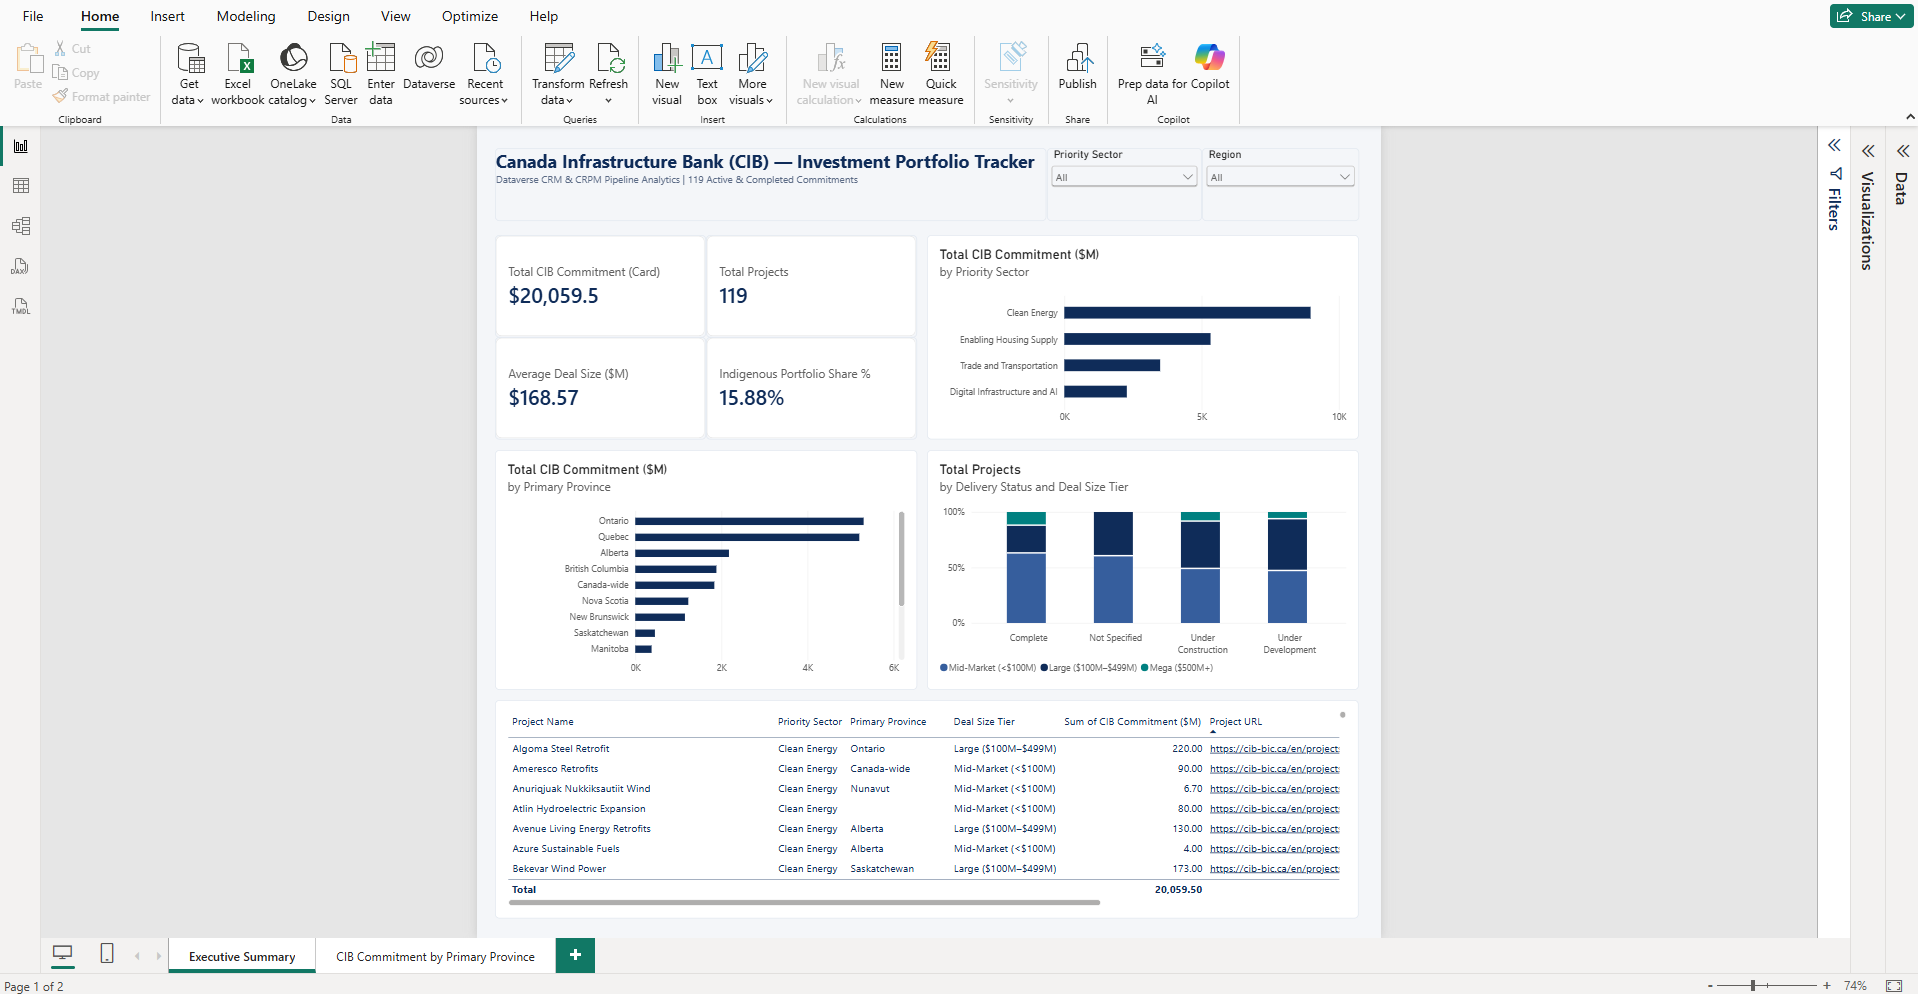

The dashboard page shown, as its layout file describes it:
{"tool":"powerbi","page":{"name":"Executive Summary","canvas":[1225,1100],"ordinal":0},"visuals":[{"type":"textbox","box":[24.8,29.2,747,99.2],"z":0},{"type":"slicer","fields":{"Values":["cib_projects_clean.Priority Sector"]},"box":[771.8,29.2,210.1,99.2],"z":1},{"type":"slicer","fields":{"Values":["cib_projects_clean.Region"]},"box":[981.9,29.2,213,99.2],"z":2},{"type":"cardVisual","fields":{"Data":["_Measures.Total CIB Commitment (Card)"]},"box":[24.8,147.4,286,138.6],"z":3},{"type":"cardVisual","fields":{"Data":["_Measures.Total Projects"]},"box":[310.8,147.4,286,138.6],"z":4},{"type":"cardVisual","fields":{"Data":["_Measures.Average Deal Size ($M)"]},"box":[24.8,286,286,138.6],"z":5},{"type":"cardVisual","fields":{"Data":["_Measures.Indigenous Portfolio Share %"]},"box":[310.8,286,286,138.6],"z":6},{"type":"barChart","fields":{"Category":["cib_projects_clean.Priority Sector"],"Y":["_Measures.Total CIB Commitment ($M)"]},"box":[609.8,147.4,585,277.2],"z":7},{"type":"hundredPercentStackedColumnChart","fields":{"Category":["cib_projects_clean.Delivery Status"],"Series":["cib_projects_clean.Deal Size Tier"],"Y":["_Measures.Total Projects"]},"box":[609.8,439.1,585,325.3],"z":8},{"type":"tableEx","fields":{"Values":["cib_projects_clean.Project Name","cib_projects_clean.Priority Sector","cib_projects_clean.Primary Province","cib_projects_clean.Deal Size Tier","Sum(cib_projects_clean.CIB Commitment ($M))","cib_projects_clean.Project URL"]},"box":[24.8,777.6,1170.1,296.2],"z":11},{"type":"clusteredBarChart","fields":{"Category":["cib_projects_clean.Primary Province"],"Y":["_Measures.Total CIB Commitment ($M)"]},"box":[24.8,439.1,571.9,325.3],"z":12}]}

Visuals, with their boxes on the page's 1225x1100 design canvas (x1, y1, x2, y2). These are canvas units, not pixel positions in the 1918x994 screenshot, which may show the page scaled, cropped or inside an application window:
textbox: [x1=25, y1=29, x2=772, y2=128]
slicer - cib_projects_clean.Priority Sector: [x1=772, y1=29, x2=982, y2=128]
slicer - cib_projects_clean.Region: [x1=982, y1=29, x2=1195, y2=128]
cardVisual - _Measures.Total CIB Commitment (Card): [x1=25, y1=147, x2=311, y2=286]
cardVisual - _Measures.Total Projects: [x1=311, y1=147, x2=597, y2=286]
cardVisual - _Measures.Average Deal Size ($M): [x1=25, y1=286, x2=311, y2=425]
cardVisual - _Measures.Indigenous Portfolio Share %: [x1=311, y1=286, x2=597, y2=425]
barChart - cib_projects_clean.Priority Sector x _Measures.Total CIB Commitment ($M): [x1=610, y1=147, x2=1195, y2=425]
hundredPercentStackedColumnChart - cib_projects_clean.Delivery Status x cib_projects_clean.Deal Size Tier: [x1=610, y1=439, x2=1195, y2=764]
tableEx - cib_projects_clean.Project Name x cib_projects_clean.Priority Sector: [x1=25, y1=778, x2=1195, y2=1074]
clusteredBarChart - cib_projects_clean.Primary Province x _Measures.Total CIB Commitment ($M): [x1=25, y1=439, x2=597, y2=764]
